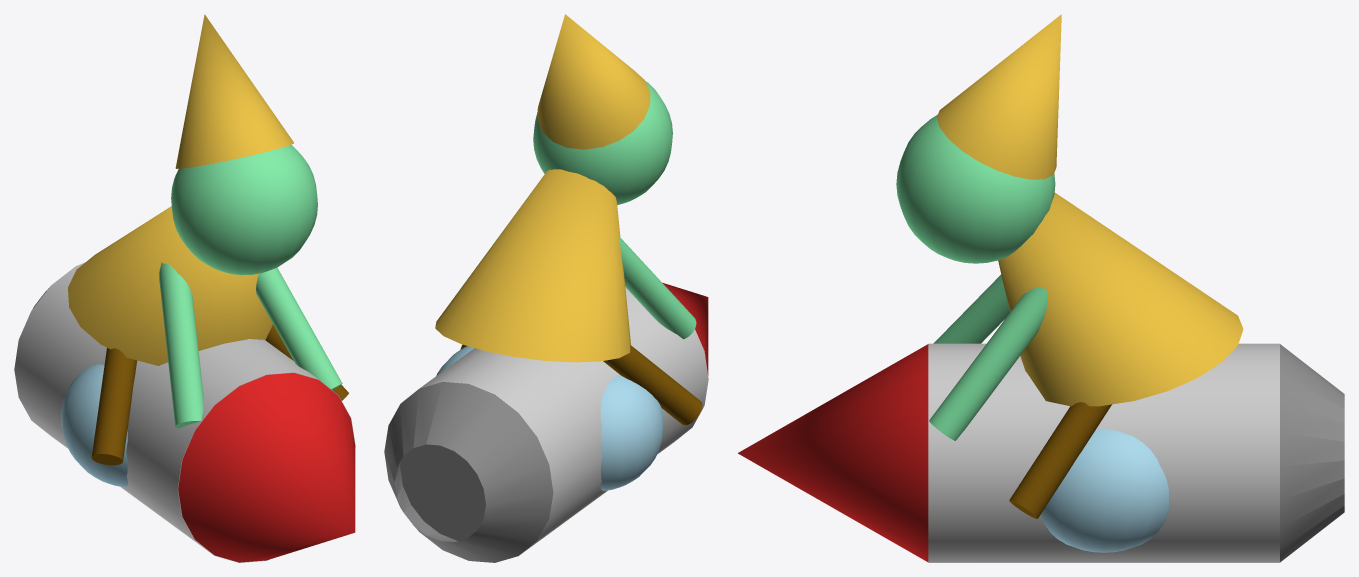
File: Player.fbx
The picture shows the model from 3 angles, left to right: view 1: azimuth 30°, elevation 25°; view 2: azimuth 150°, elevation 25°; view 3: azimuth 270°, elevation 25°; orthographic projection. The views are drawn at different scales.
Visible parts, largest first — view 1: pCylinder6; view 2: pCylinder6; view 3: pCylinder6.
Boxes of the visible parts, x1,y1,x2,y2 form: pCylinder6: (14,14,355,562); pCylinder6: (384,14,708,562); pCylinder6: (738,14,1344,562).
Bounding box in the file's own units: 1.95 × 3.66 × 3.74.
